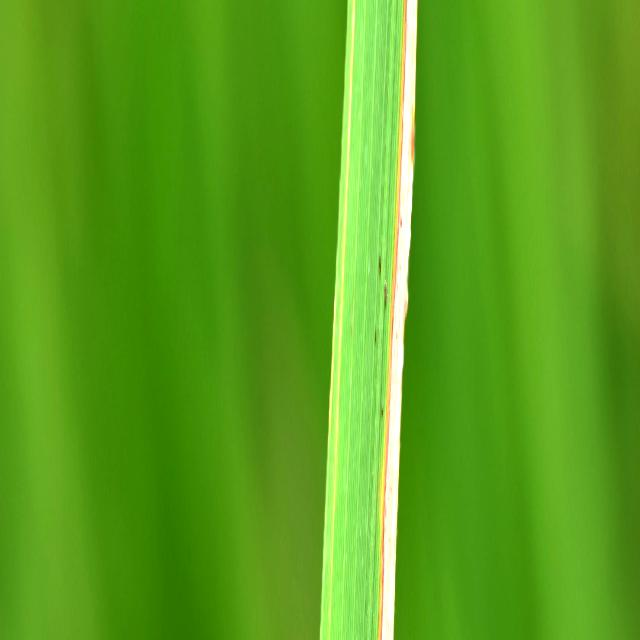BLB: (387, 1, 417, 403), (378, 394, 401, 640)
